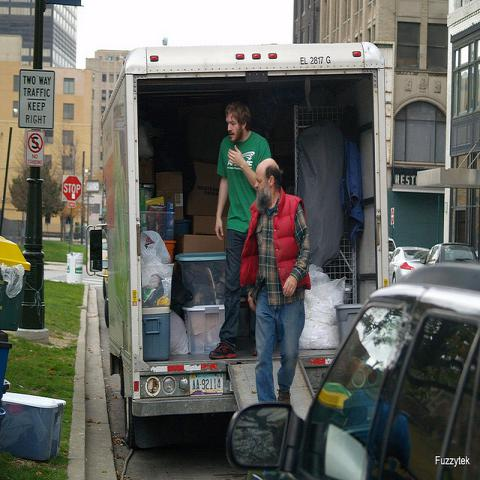car: (224, 257, 480, 479), (389, 246, 433, 282), (424, 245, 477, 265), (389, 237, 396, 265)
truck: (85, 42, 391, 452)
